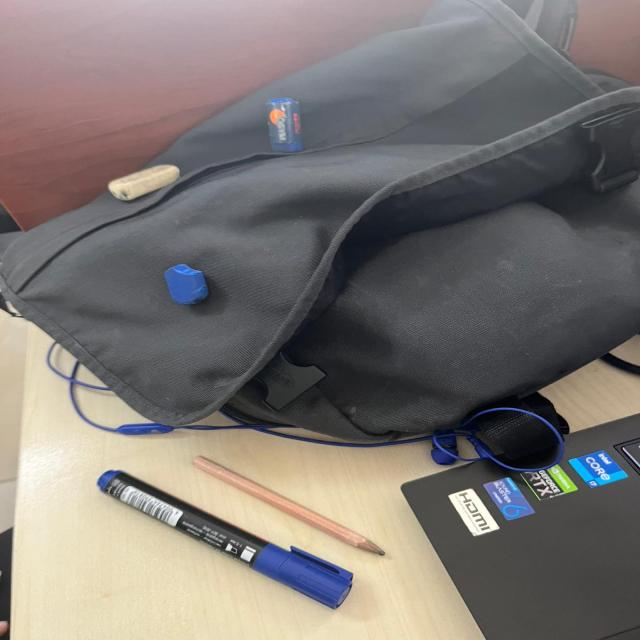eraser: (99, 160, 208, 203), (252, 89, 315, 155), (161, 258, 222, 311)
pencil: (88, 468, 356, 612), (187, 444, 402, 560)
